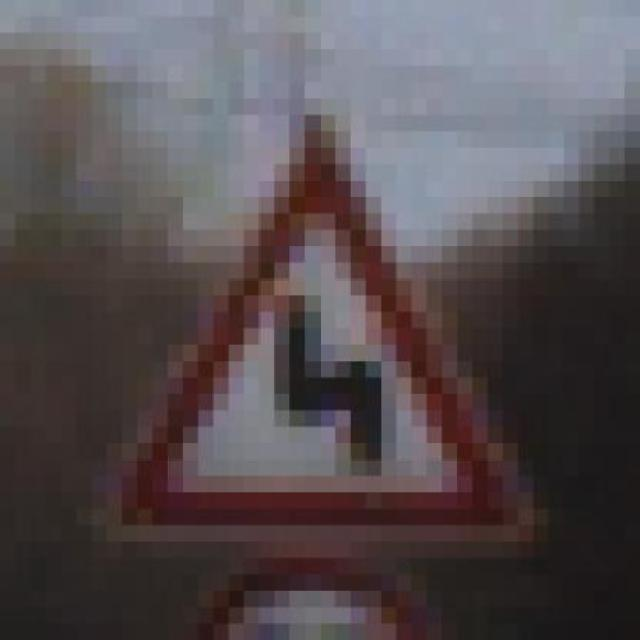Left Zig Zag Traffic: (106, 98, 534, 574)
